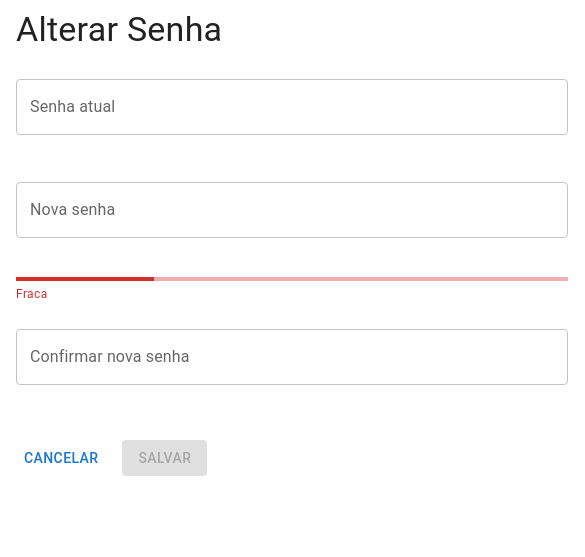
SenhaPage › 401 'Senha atual incorreta' exibe alert + limpa senha_atual + foco em senha_atual
This screenshot has width=585, height=557.
Type "ErradaPass1" into the password field labelled "Senha atual" at (292, 107), box [16,79,568,135]
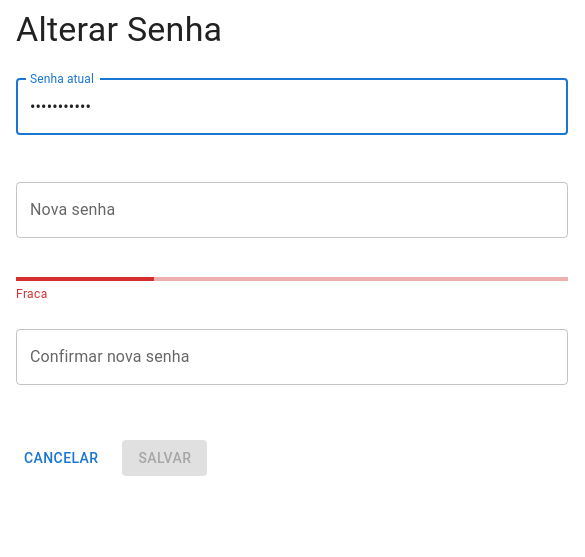
Type "NovaSenha123" into the password field labelled "Nova senha" at (292, 210), box [16,182,568,238]
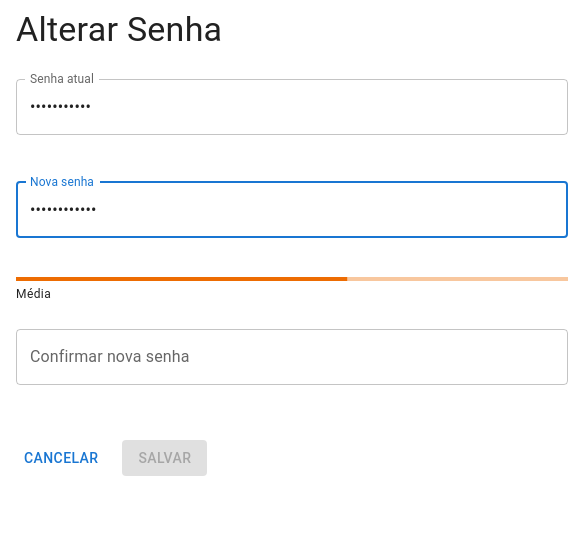
Type "NovaSenha123" into the password field labelled "Confirmar nova senha" at (292, 357), box [16,329,568,385]
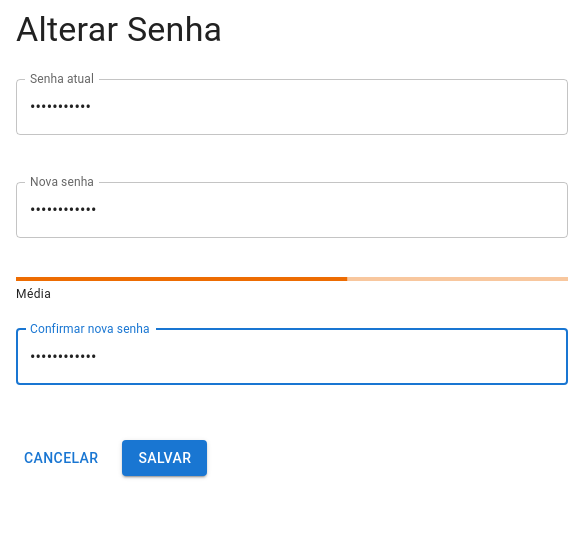
Click the button "Salvar" at (165, 458), box [122,440,207,476]
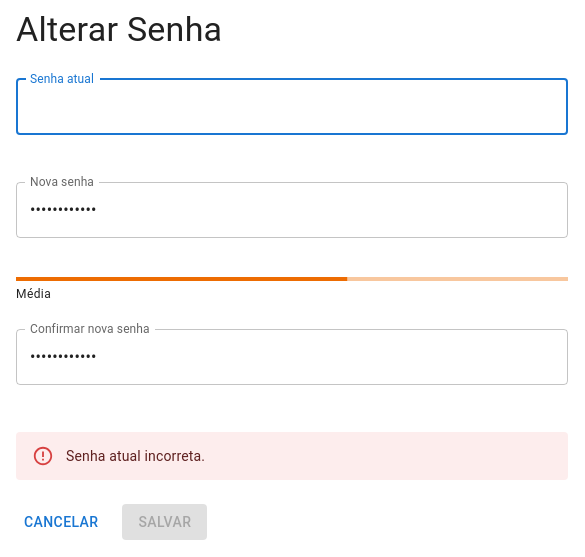
Expected: the text "Senha atual incorreta." is shown, [66,448,205,464]
Expected: the password field labelled "Senha atual" is empty, [16,79,568,135]
